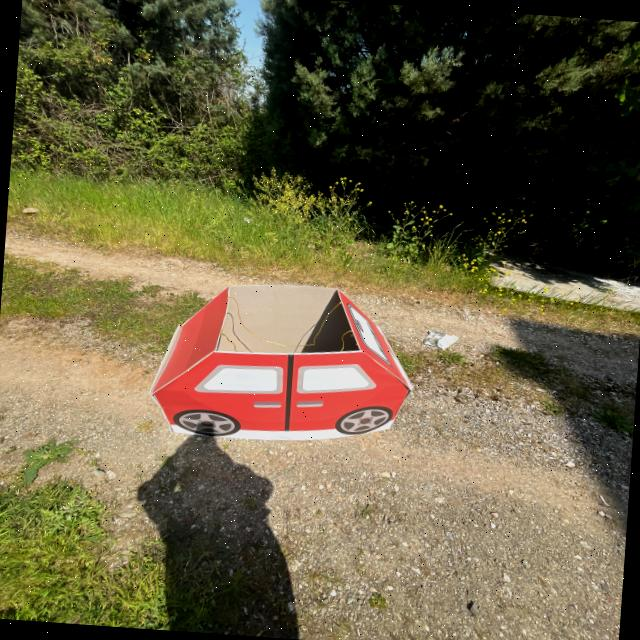red_car: (134, 267, 426, 475)
